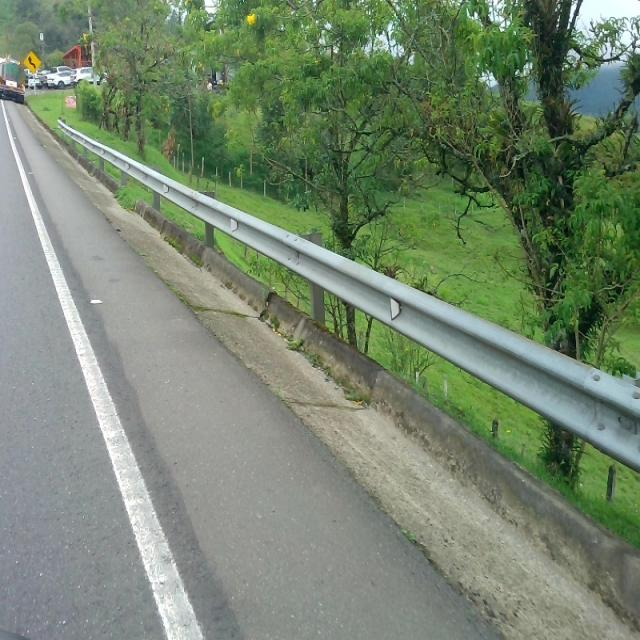DITCH: (1, 59, 638, 638), (9, 96, 638, 638)
